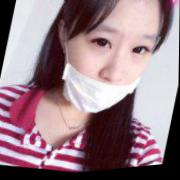WRONG: (54, 8, 162, 129)
